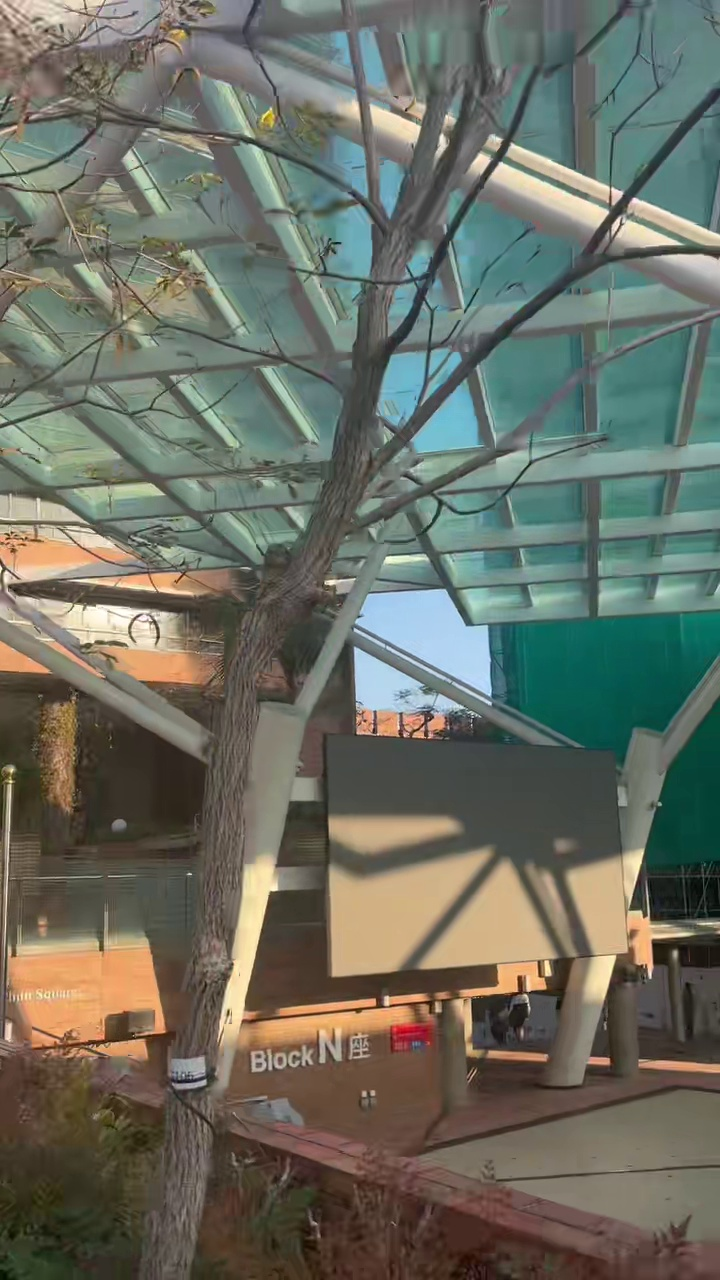Tabebuia chrysantha: (140, 0, 719, 1279)
